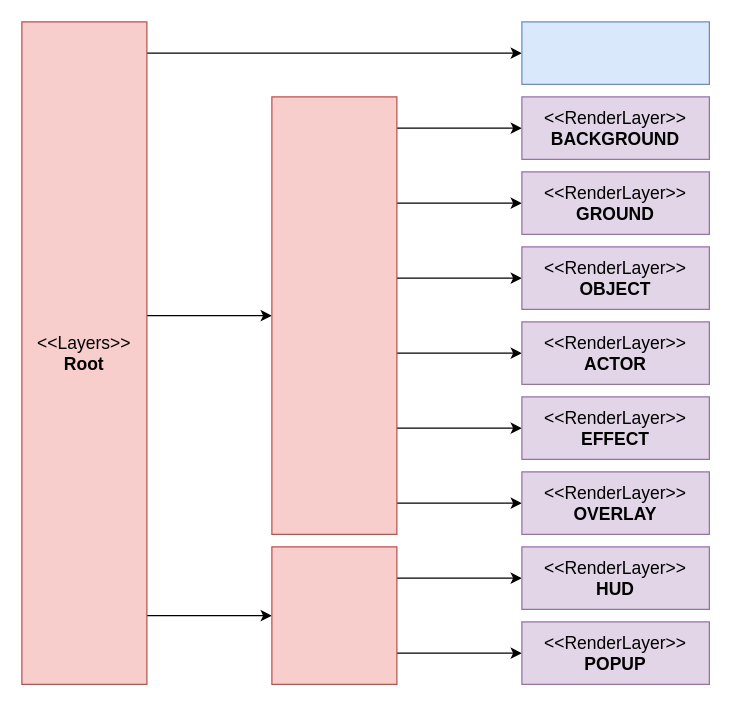
This 731x706 diagram has some shape labels left out. Each missing label, with the centre of its shape:
"<<Bitmap>> Underlay" goes at (x=615, y=52).
"<<Layers>> Screen" goes at (x=334, y=615).
"<<Layers>> Scroller" goes at (x=334, y=315).
